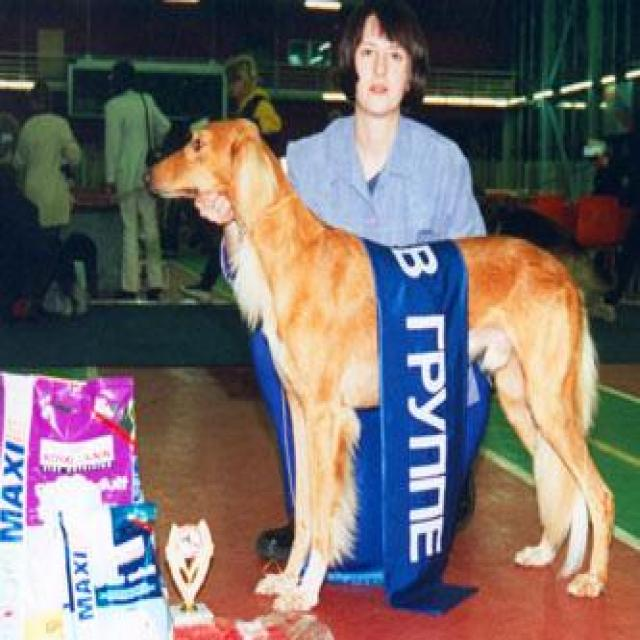saluki: (142, 119, 617, 608)
